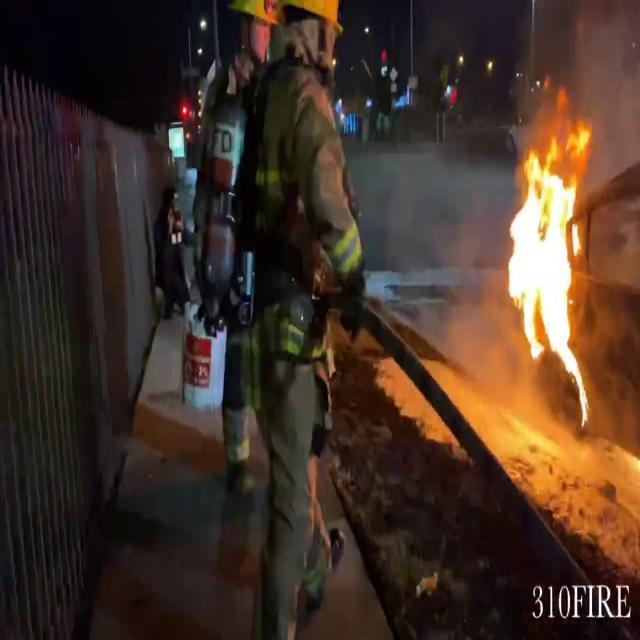Fire: (501, 108, 601, 430)
